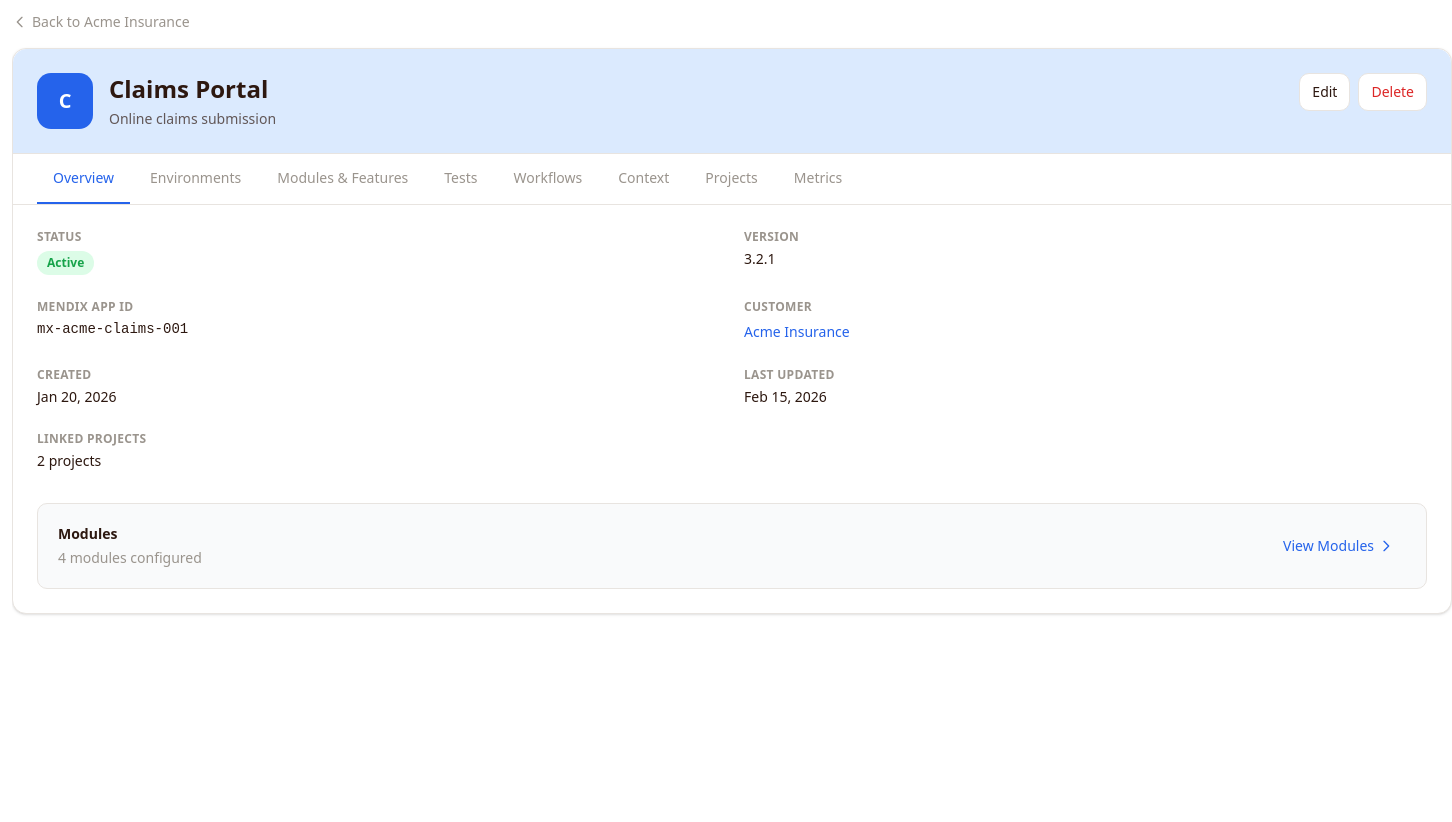
Test: AppDetail › renders test coverage component when Tests tab clicked
This screenshot has width=1452, height=822.
Step 1. Click the button "Tests" → coordinates (461, 179), box [428, 154, 494, 204]
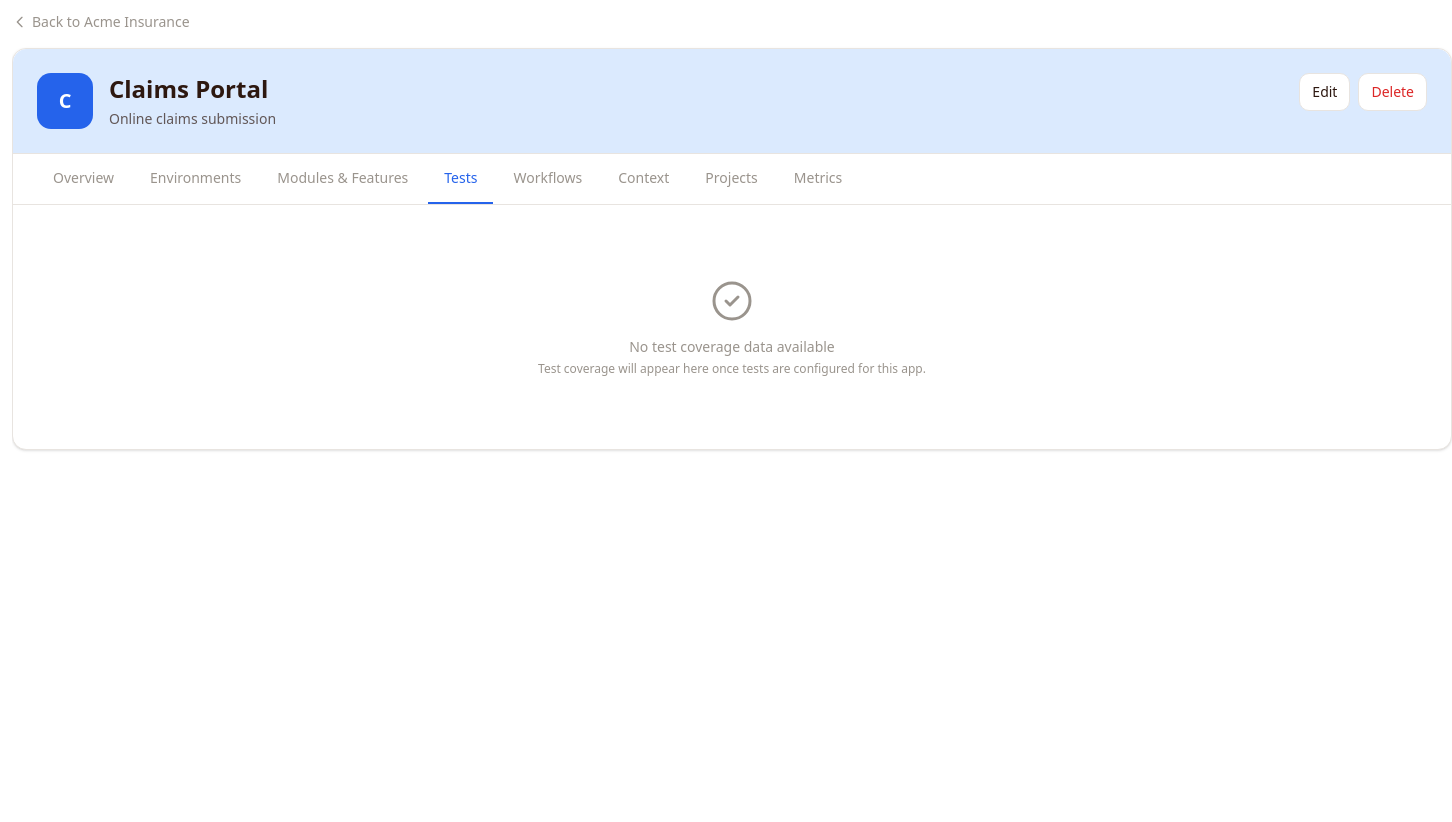
Now the text "No test coverage data available" is shown, box [629, 337, 835, 356]
